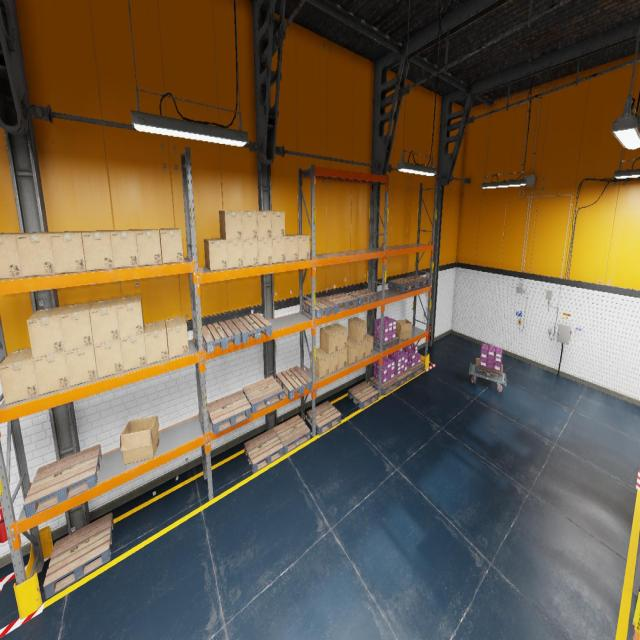box: (0, 347, 39, 405), (27, 306, 66, 358), (120, 415, 159, 464), (16, 232, 56, 276), (60, 302, 94, 351), (33, 352, 69, 395), (50, 231, 86, 274), (89, 298, 120, 344), (64, 345, 98, 386), (82, 230, 114, 270), (0, 232, 27, 279), (116, 294, 144, 338), (94, 339, 123, 378), (110, 229, 139, 268), (144, 320, 168, 364), (165, 316, 189, 358), (120, 334, 147, 371), (136, 229, 162, 265), (159, 228, 183, 263), (204, 238, 227, 270), (219, 210, 242, 240), (310, 348, 329, 378), (320, 326, 338, 354), (226, 240, 244, 268), (328, 323, 346, 350), (348, 317, 366, 343), (292, 234, 310, 260), (242, 211, 258, 239), (242, 238, 258, 266), (321, 348, 338, 374), (256, 211, 272, 238), (349, 337, 365, 361), (258, 238, 272, 265), (271, 211, 285, 237), (285, 235, 298, 261), (272, 237, 285, 263), (396, 320, 412, 340), (347, 337, 358, 365), (338, 347, 347, 370), (365, 333, 373, 357)
pallets: (43, 512, 114, 598), (23, 444, 102, 518), (207, 390, 251, 434), (244, 428, 283, 473), (242, 376, 284, 414), (274, 415, 310, 454), (202, 320, 241, 354), (276, 366, 312, 400), (232, 313, 272, 343), (307, 401, 341, 435), (348, 381, 379, 409), (303, 297, 337, 318), (323, 292, 358, 312), (474, 358, 502, 380), (369, 376, 398, 396), (348, 289, 378, 305), (372, 335, 399, 350), (388, 278, 417, 291), (402, 275, 430, 288), (394, 368, 412, 386), (407, 362, 425, 378), (632, 629, 636, 639)
